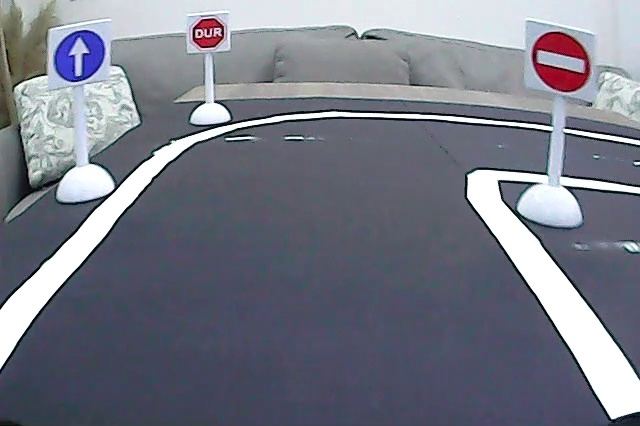do not enter: (528, 28, 595, 94)
stop sign: (187, 14, 231, 53)
